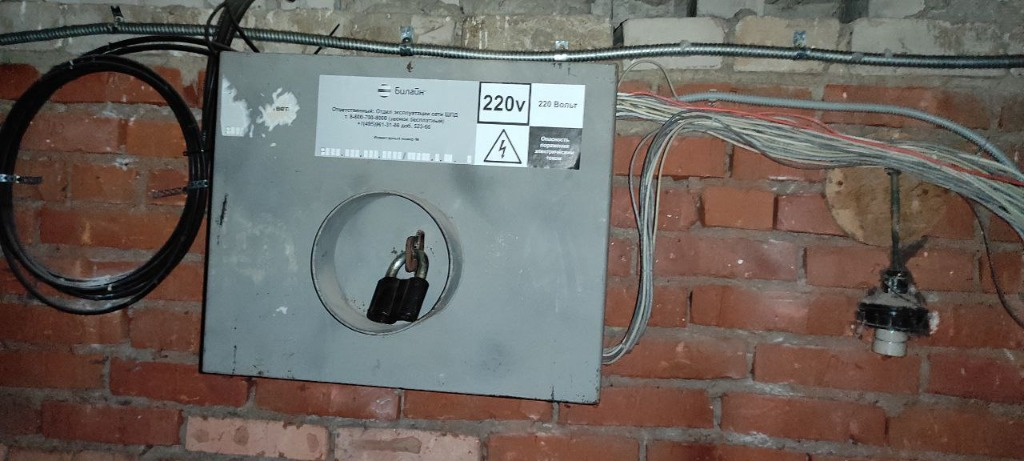shta-3: (197, 46, 621, 412)
